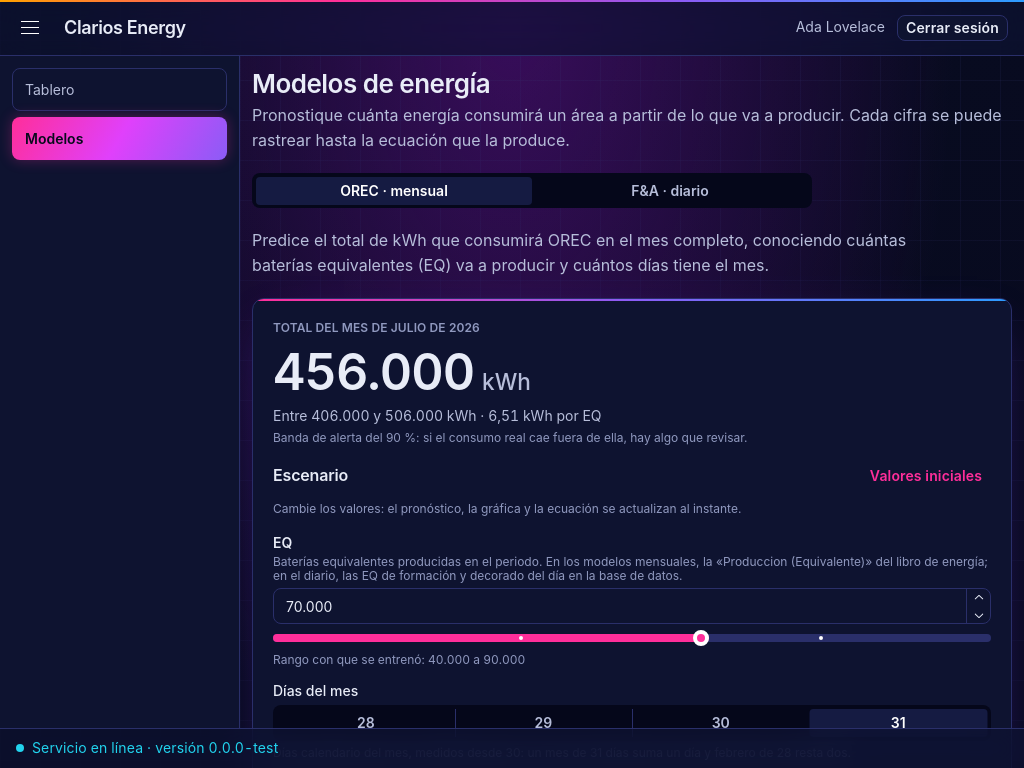
Test: the daily model › switches from the monthly model
Expected: the text "Predice el total de kWh que consumirá OREC en el mes completo, conociendo cuántas baterías equivalentes (EQ) va a produc" is shown, left=252, top=230, right=906, bottom=275
Click the radio button labelled "F&A · diario": click(670, 190) left=631, top=182, right=709, bottom=199
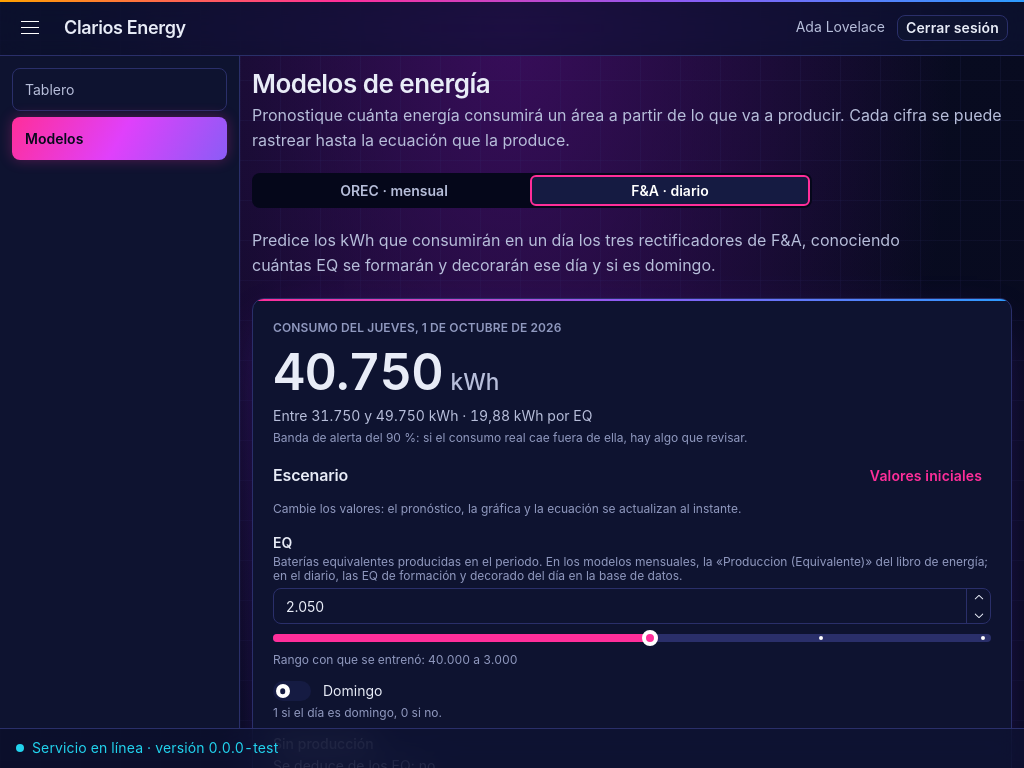
Result: the text "Predice los kWh que consumirán en un día los tres rectificadores de F&A, conociendo cuántas EQ se formarán y decorarán e" is shown at left=252, top=230, right=900, bottom=275
Result: the text "Predice el total de kWh que consumirá OREC en el mes completo, conociendo cuántas baterías equivalentes (EQ) va a produc" is gone
